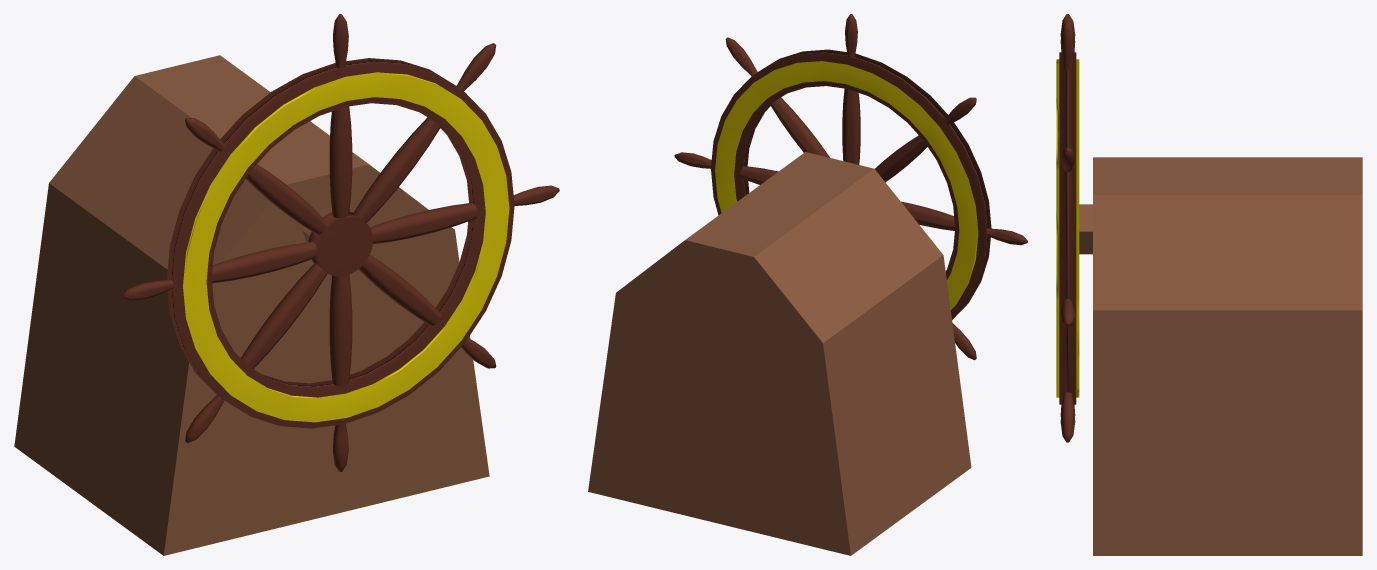
File: Helm.fbx
3 renders of one model, left to right at view 1: azimuth 30°, elevation 25°; view 2: azimuth 150°, elevation 25°; view 3: azimuth 270°, elevation 25°, orthographic. The views are drawn at different scales.
Parts seen in each view (by area): view 1: HelmBase, Helm; view 2: HelmBase, Helm; view 3: HelmBase, Helm.
Part boxes in pixels (box(x1,y1,x2,y2)): HelmBase: box(14, 55, 489, 555); Helm: box(121, 14, 559, 472); HelmBase: box(588, 152, 971, 555); Helm: box(674, 14, 1027, 360); HelmBase: box(1079, 157, 1362, 555); Helm: box(1056, 14, 1079, 442).
Bounding box in the file's own units: 137 × 153 × 92.15.
